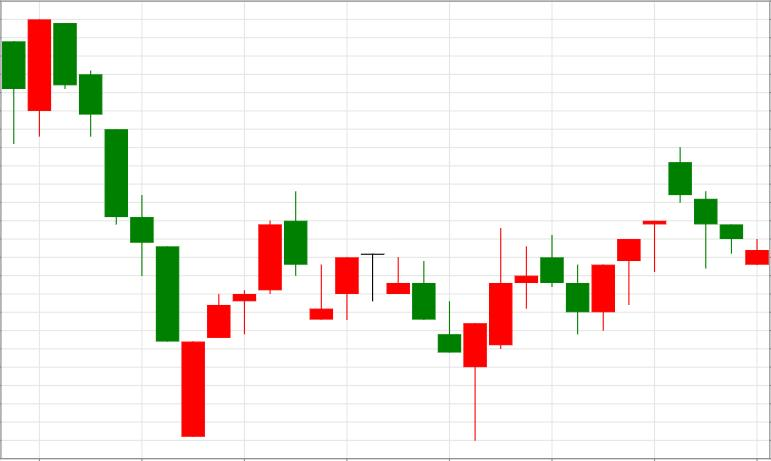hammer_rise: (361, 253, 488, 440)
three_white_soldiers_rise: (53, 23, 256, 437)
